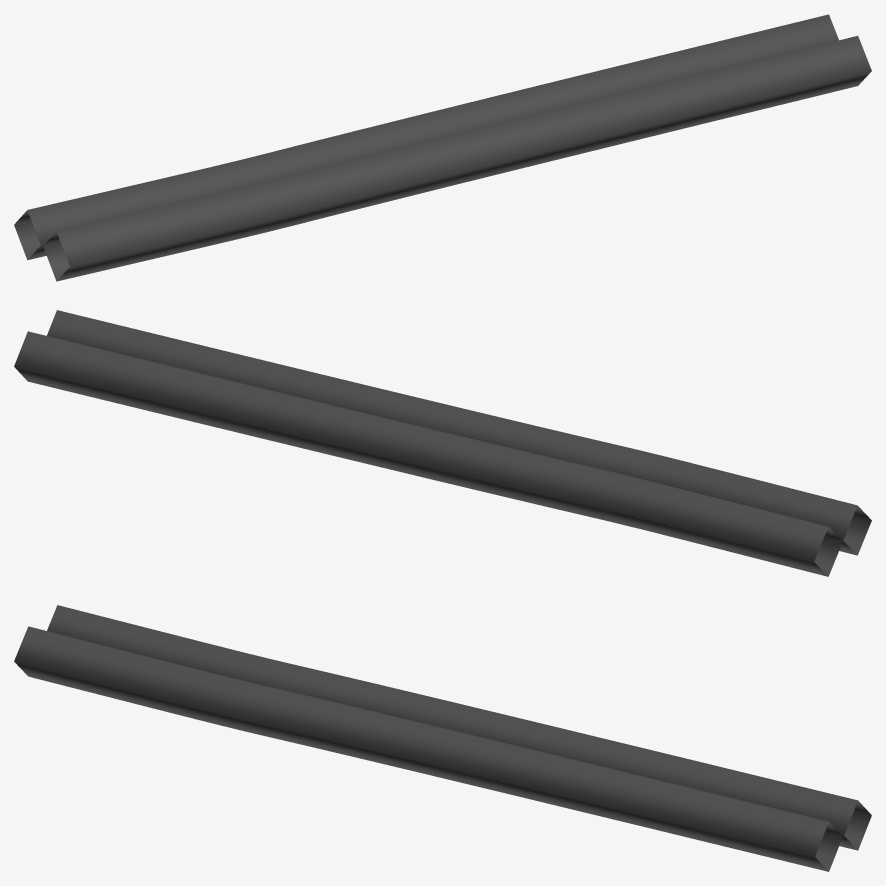
Rendered from Mod_Cable_Straight.fbx.
3 renders of one model, top to bottom at view 1: azimuth 30°, elevation 25°; view 2: azimuth 150°, elevation 25°; view 3: azimuth 330°, elevation 25°, orthographic.
Parts seen in each view (by area): view 1: Mod_Cable_Straight; view 2: Mod_Cable_Straight; view 3: Mod_Cable_Straight.
Boxes of the visible parts, x1=… form: Mod_Cable_Straight: x1=14, y1=14, x2=871, y2=281; Mod_Cable_Straight: x1=14, y1=310, x2=871, y2=576; Mod_Cable_Straight: x1=14, y1=605, x2=871, y2=871.
Size of the model in its own units: 100 by 6 by 12.73.
